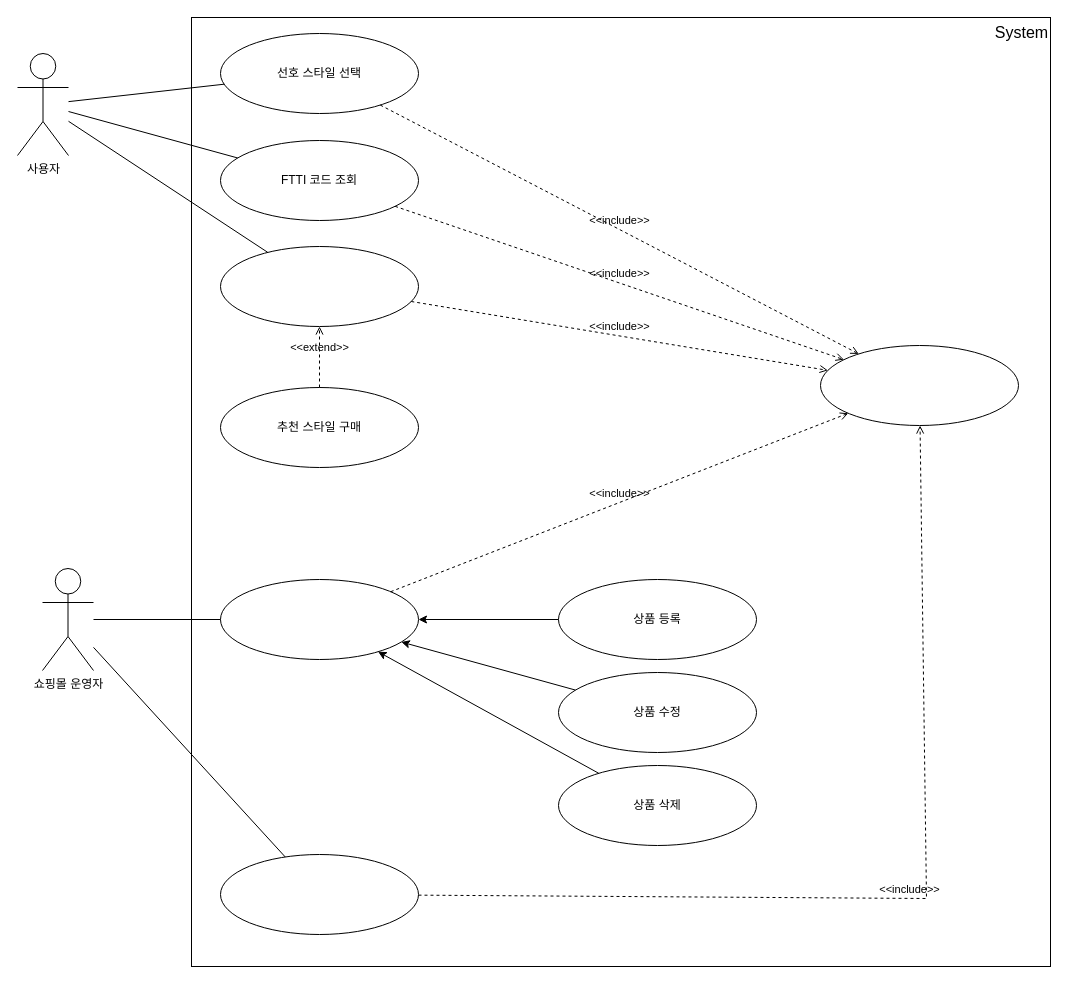
The diagram is 1068 pixels wide and 984 high, and some of its shapes have lost their labels. The shapes that lost their labels are listed below. From the top down, each one's box as (x1, y1, x2, y2) in pixels, then its label:
(220, 246, 418, 326): 추천 스타일 조회
(820, 344, 1018, 426): 로그인
(220, 578, 418, 660): 상품 관리
(220, 854, 418, 934): 사용자 통계 확인
